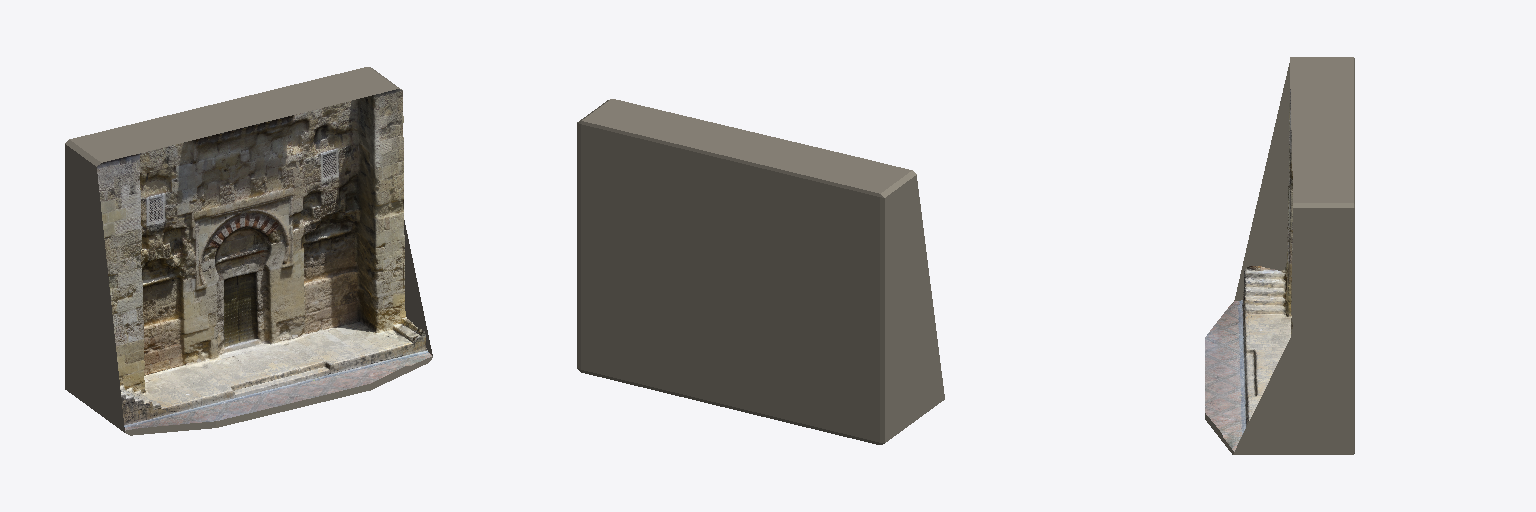
The picture shows the model from 3 angles: view 1: azimuth 30°, elevation 25°; view 2: azimuth 150°, elevation 25°; view 3: azimuth 270°, elevation 25°; orthographic projection.
Parts seen in each view (by area): view 1: cordoba-door-1; view 2: cordoba-door-1; view 3: cordoba-door-1.
Part boxes in pixels (x1,y1,x2,y2): cordoba-door-1: (65, 67, 432, 435); cordoba-door-1: (577, 99, 944, 444); cordoba-door-1: (1205, 57, 1354, 454).
Bounding box in the file's own units: 13.23 × 10.33 × 5.58.
3 materials, 2 textured.